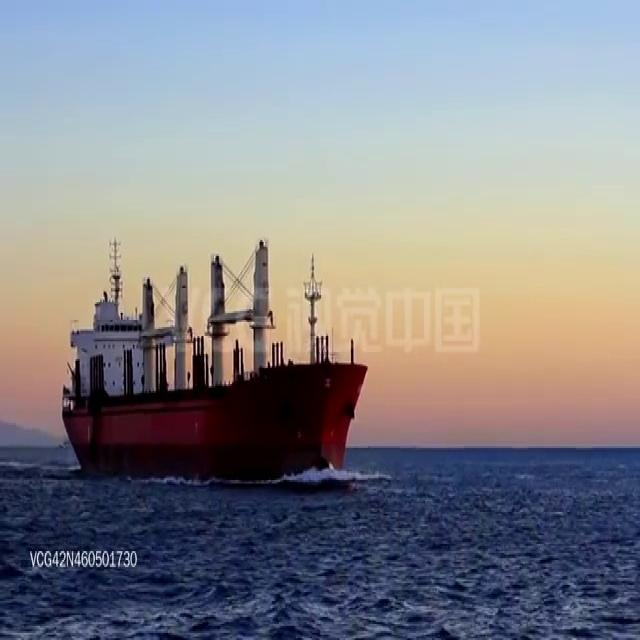cargoship: (60, 232, 365, 483)
